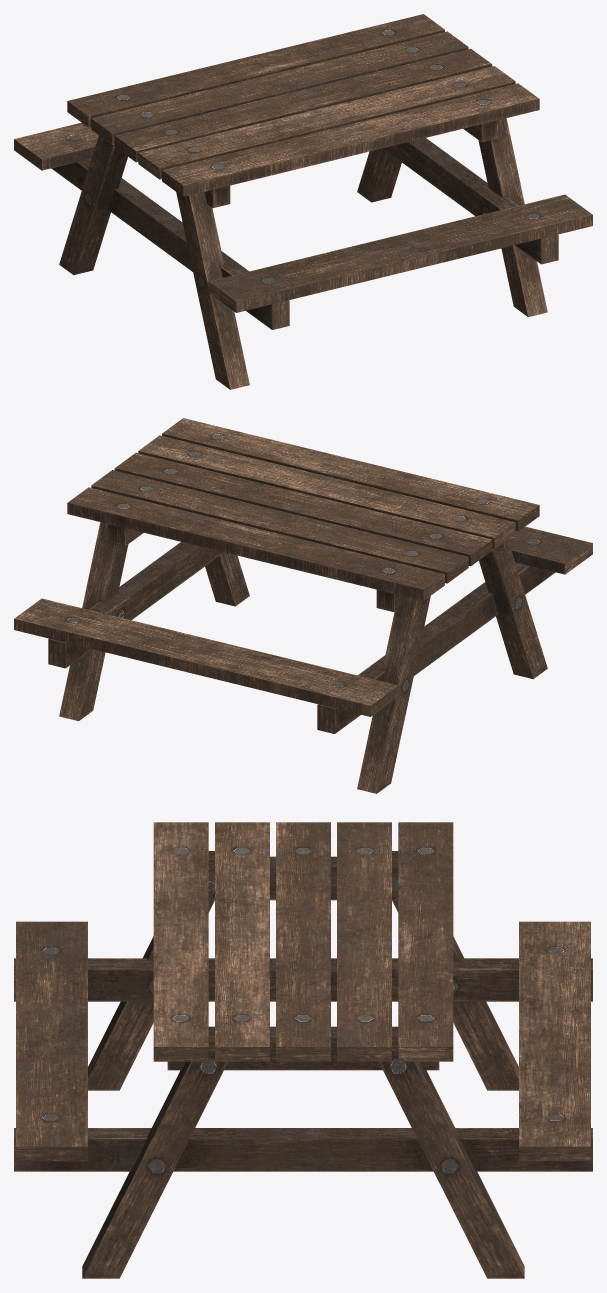
Rendered from bank.fbx.
3 renders of one model, top to bottom at view 1: azimuth 30°, elevation 25°; view 2: azimuth 150°, elevation 25°; view 3: azimuth 270°, elevation 25°, orthographic. The views are drawn at different scales.
Visible parts, largest first — view 1: Beams 3.000, Seat 1.000, Plank 1.000, Beams 2.000, Plank 5.000, Plank 2.000, Plank 3.000, Plank 4.000, Seat 2.000, Beams 1.000; view 2: Beams 3.000, Seat 2.000, Plank 5.000, Beams 2.000, Plank 1.000, Plank 4.000, Plank 3.000, Plank 2.000, Seat 1.000, Beams 1.000; view 3: Beams 3.000, Beams 2.000, Seat 2.000, Seat 1.000, Plank 5.000, Plank 1.000, Plank 3.000, Plank 4.000, Plank 2.000, Beams 1.000.
Boxes of the visible parts, x1=… form: Beams 3.000: x1=59, y1=118, x2=547, y2=389; Seat 1.000: x1=208, y1=194, x2=592, y2=312; Plank 1.000: x1=162, y1=83, x2=539, y2=196; Beams 2.000: x1=51, y1=138, x2=558, y2=329; Plank 5.000: x1=67, y1=14, x2=444, y2=127; Plank 2.000: x1=138, y1=66, x2=515, y2=179; Plank 3.000: x1=114, y1=48, x2=492, y2=162; Plank 4.000: x1=91, y1=31, x2=468, y2=144; Seat 2.000: x1=14, y1=122, x2=98, y2=170; Beams 1.000: x1=204, y1=120, x2=499, y2=207; Beams 3.000: x1=59, y1=522, x2=547, y2=793; Seat 2.000: x1=14, y1=598, x2=398, y2=716; Plank 5.000: x1=67, y1=487, x2=444, y2=600; Beams 2.000: x1=48, y1=542, x2=555, y2=733; Plank 1.000: x1=162, y1=418, x2=539, y2=531; Plank 4.000: x1=91, y1=470, x2=468, y2=583; Plank 3.000: x1=114, y1=452, x2=492, y2=566; Plank 2.000: x1=138, y1=435, x2=515, y2=548; Seat 1.000: x1=508, y1=526, x2=592, y2=574; Beams 1.000: x1=107, y1=524, x2=402, y2=611; Beams 3.000: x1=82, y1=851, x2=524, y2=1278; Beams 2.000: x1=14, y1=958, x2=592, y2=1171; Seat 2.000: x1=519, y1=921, x2=590, y2=1161; Seat 1.000: x1=16, y1=921, x2=87, y2=1161; Plank 5.000: x1=398, y1=822, x2=453, y2=1061; Plank 1.000: x1=153, y1=822, x2=208, y2=1061; Plank 3.000: x1=276, y1=822, x2=330, y2=1061; Plank 4.000: x1=337, y1=822, x2=391, y2=1061; Plank 2.000: x1=215, y1=822, x2=269, y2=1061; Beams 1.000: x1=167, y1=856, x2=439, y2=1070.
Size of the model in its own units: 392 by 198 by 426.
1 material, 1 textured.
